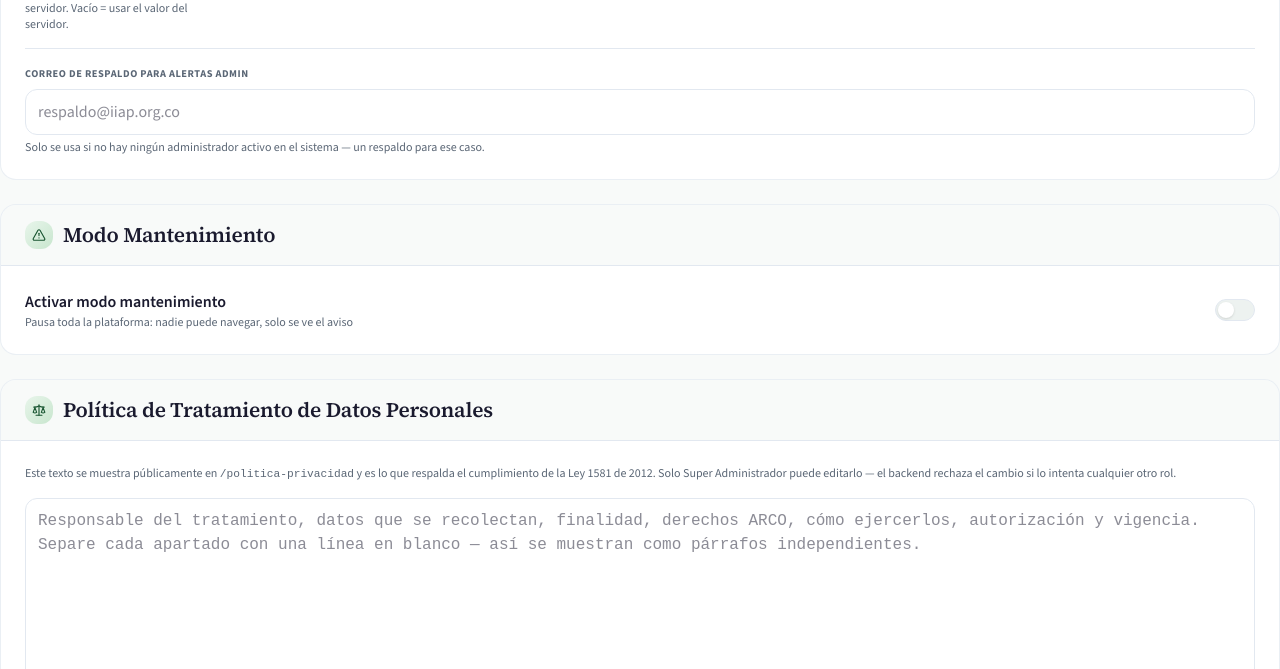
Test: Configuracion — modo mantenimiento › desactivarlo de nuevo oculta el campo de mensaje
The width and height of the screenshot is (1280, 669).
(page scrolled)
Click the switch. click: click(1235, 310)
box: [1215,299,1255,321]
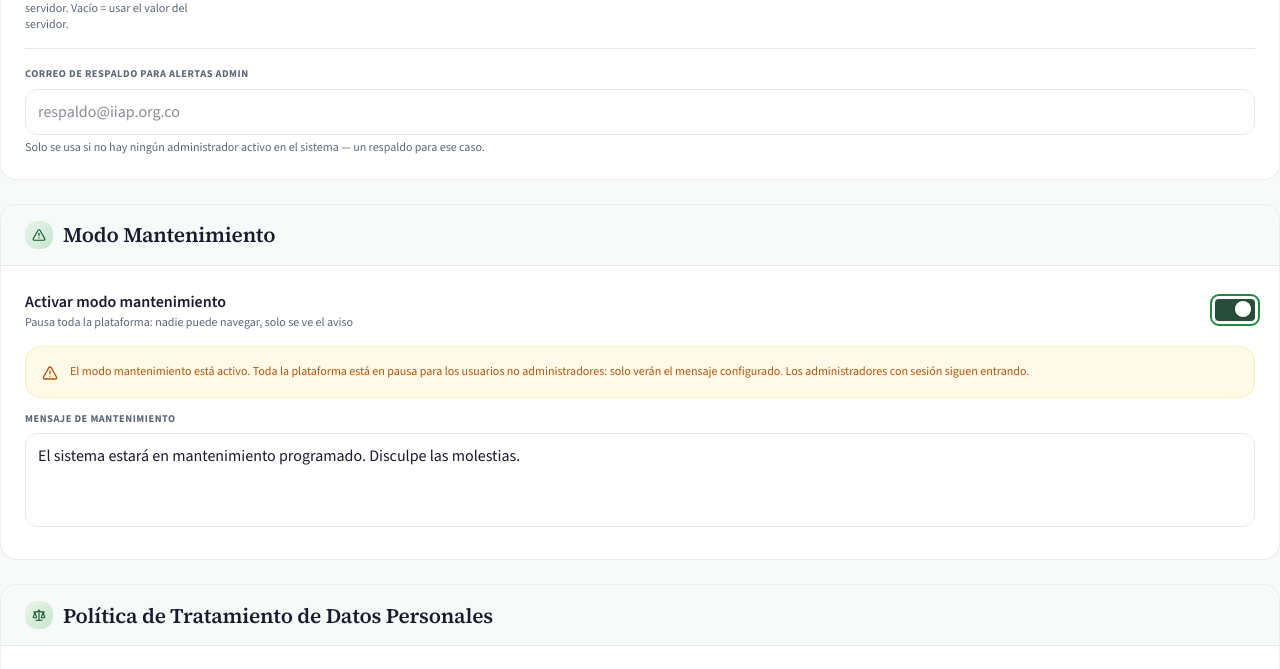
Result: the text box labelled "Mensaje de mantenimiento" is shown at [25,433,1255,527]
Click the switch. click: click(1235, 310)
box: [1215,299,1255,321]
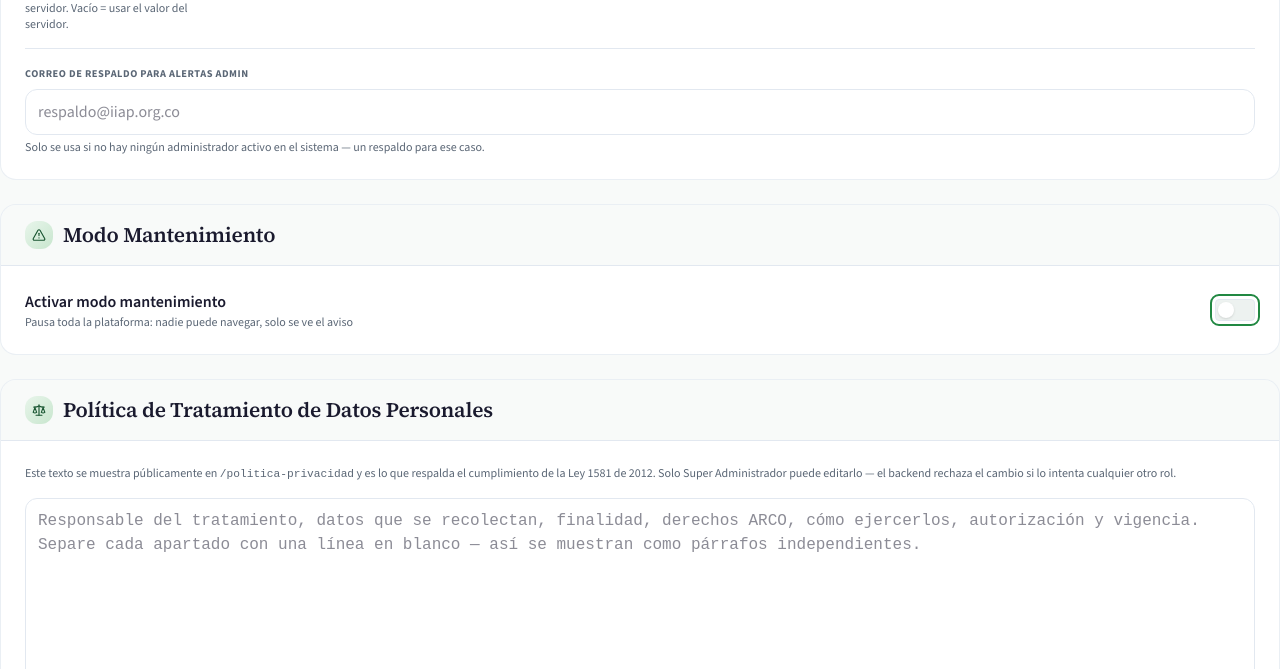
Result: the label labelled "Mensaje de mantenimiento" is gone
